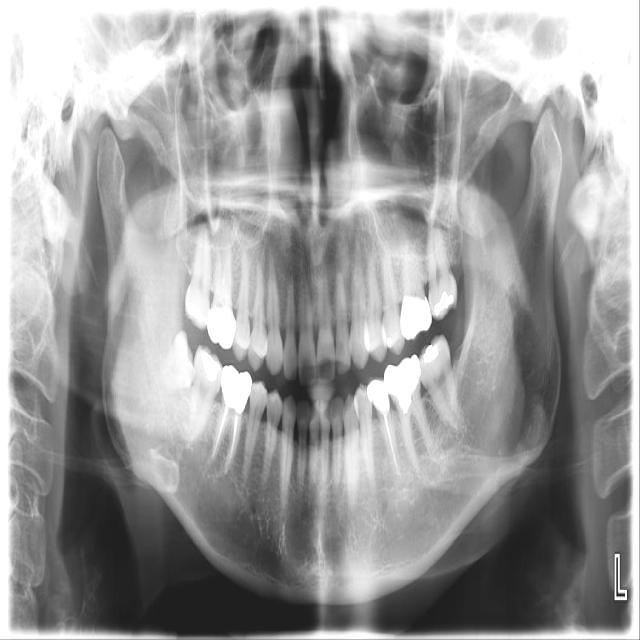Crown: (383, 355, 421, 407), (400, 288, 432, 341), (221, 365, 252, 414), (207, 302, 236, 350), (366, 376, 391, 417)
Filling: (432, 289, 453, 319), (200, 354, 221, 383), (419, 343, 444, 365), (186, 302, 203, 324), (383, 326, 395, 349)
Periapical lesion: (195, 213, 211, 242), (440, 423, 458, 448), (207, 445, 223, 469), (223, 470, 230, 478)
Root Canal Treatment: (383, 412, 399, 472), (215, 408, 229, 452), (231, 416, 238, 463)
impacted tooth: (146, 331, 198, 388)
